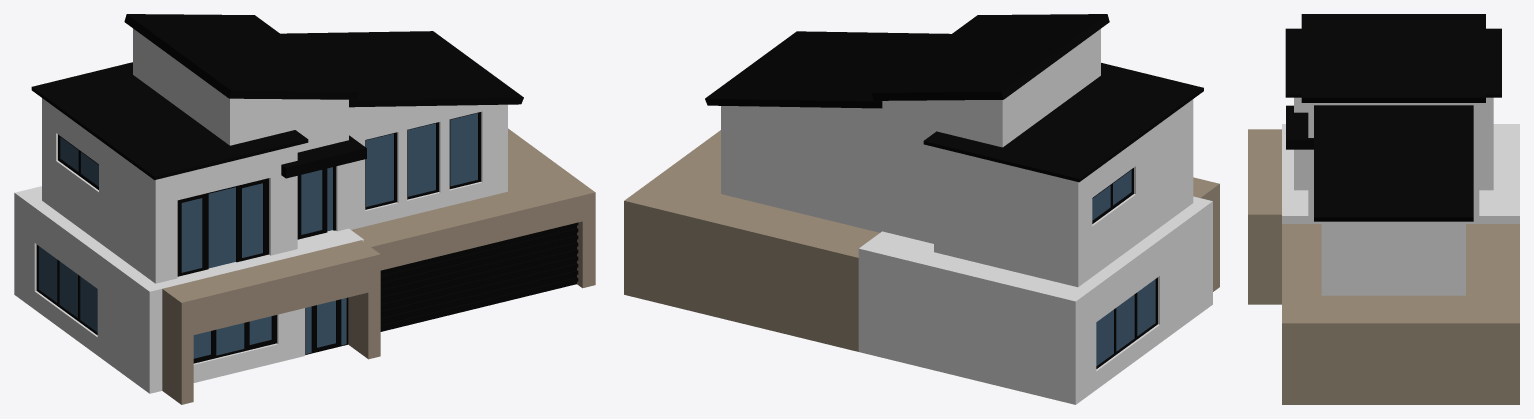
File: Modern6.fbx
3 renders of one model, left to right at view 1: azimuth 30°, elevation 25°; view 2: azimuth 150°, elevation 25°; view 3: azimuth 270°, elevation 25°, orthographic. The views are drawn at different scales.
Visible parts, largest first — view 1: Modern6_Concrete, Modern6_Roof, Modern6_ConcreteG, Modern6_Windows, Modern6_Garage, Modern6_Frame; view 2: Modern6_Concrete, Modern6_Roof, Modern6_ConcreteG, Modern6_Windows, Modern6_Frame; view 3: Modern6_ConcreteG, Modern6_Roof, Modern6_Concrete.
Part boxes in pixels (<box>): Modern6_Concrete: <box>14,28,507,393</box>; Modern6_Roof: <box>31,14,523,179</box>; Modern6_ConcreteG: <box>162,128,595,404</box>; Modern6_Windows: <box>39,113,477,358</box>; Modern6_Garage: <box>380,222,578,331</box>; Modern6_Frame: <box>36,112,480,363</box>; Modern6_Concrete: <box>721,29,1212,404</box>; Modern6_Roof: <box>705,14,1203,182</box>; Modern6_ConcreteG: <box>624,130,1219,351</box>; Modern6_Windows: <box>1092,170,1155,365</box>; Modern6_Frame: <box>1092,168,1157,368</box>; Modern6_ConcreteG: <box>1248,129,1519,404</box>; Modern6_Roof: <box>1285,14,1501,221</box>; Modern6_Concrete: <box>1282,97,1519,295</box>.
Size of the model in its own units: 1680 by 981 by 1009.
